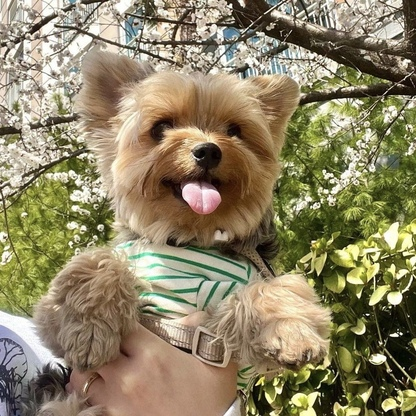yorkshire: (45, 46, 335, 369)
